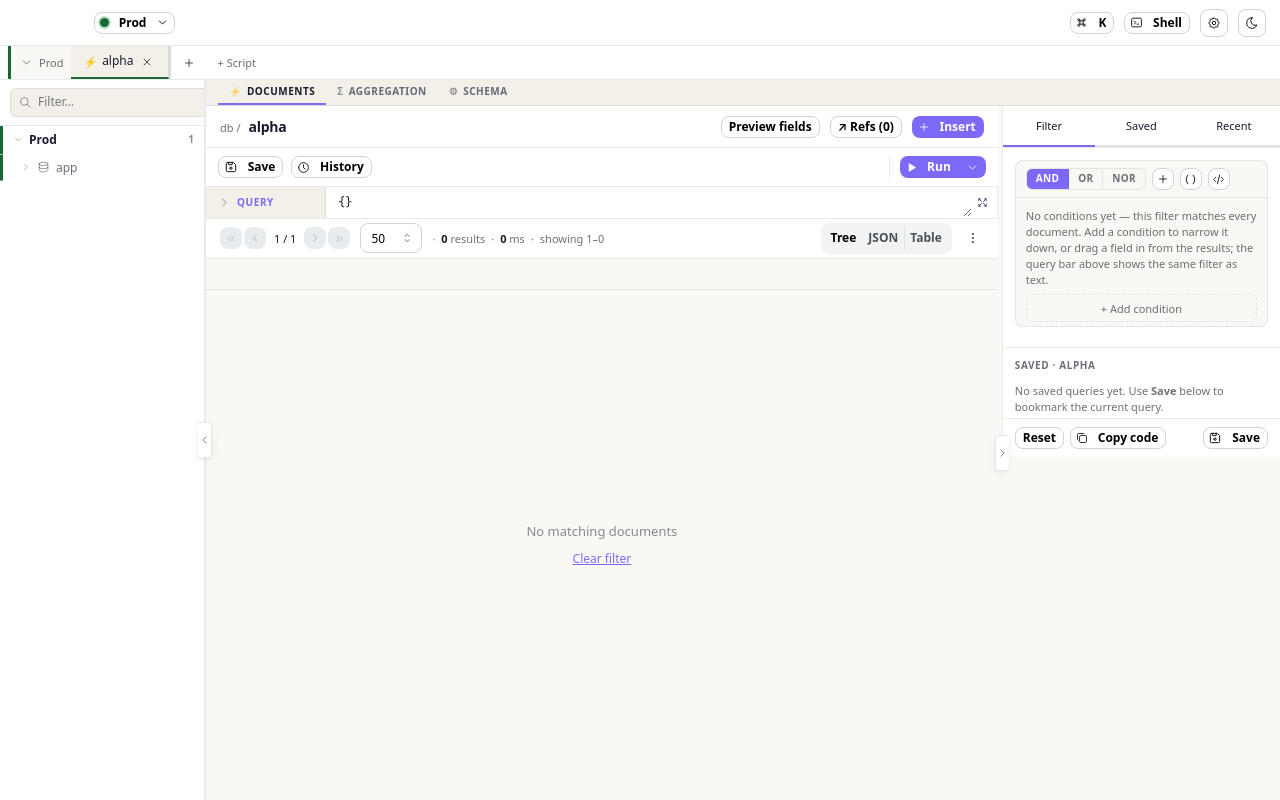
Test case: NewTabPicker — dialog shell (X15 T5) › keeps Open disabled while the collection list is still loading
Click the button named "New collection tab": (190, 62) [176,48,204,76]
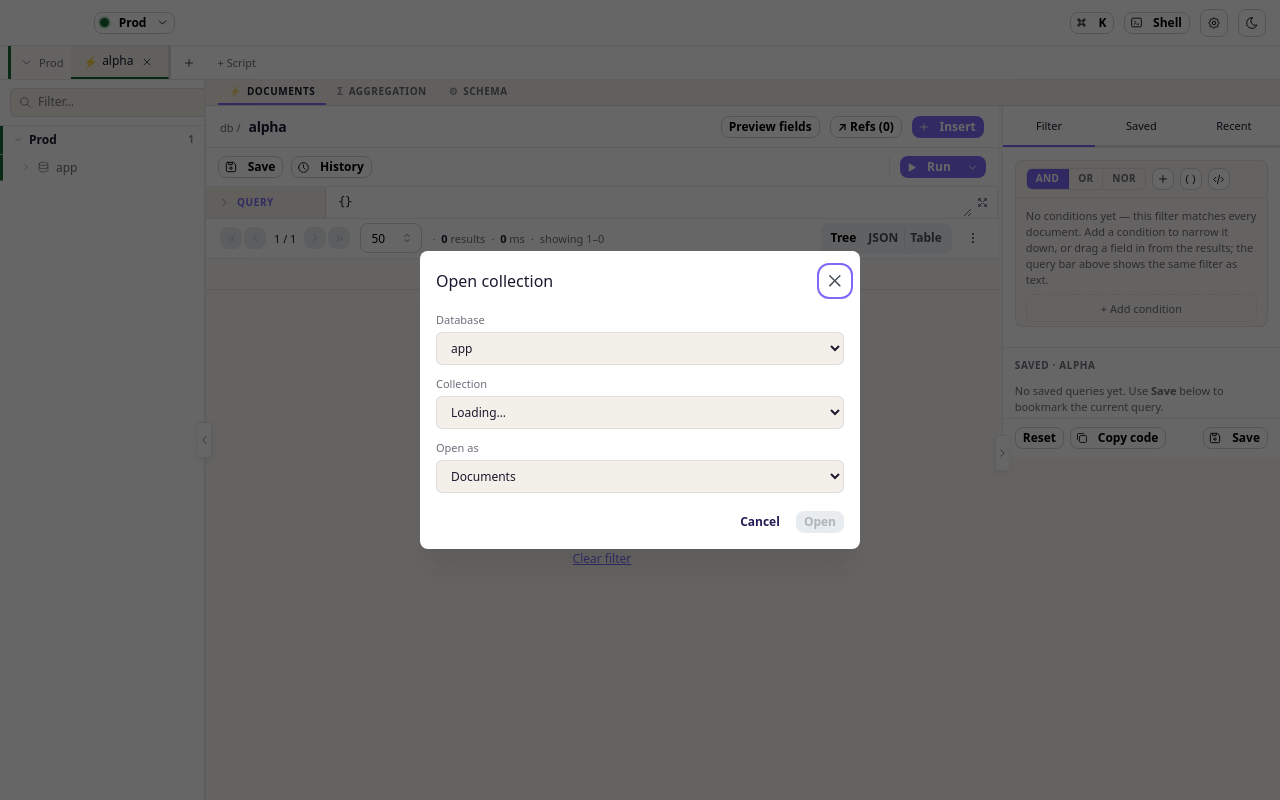
Expected: the dropdown labelled "Collection" is shown, [436,396,844,429]
Expected: the button "Open" is disabled, [796,511,844,533]
